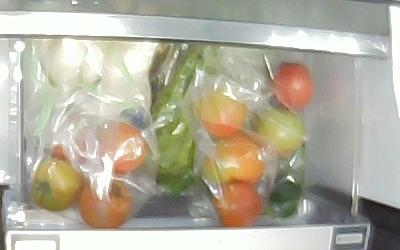tomato_vinyl: (202, 134, 265, 184), (31, 156, 82, 212), (250, 105, 302, 158), (193, 89, 248, 139), (78, 179, 132, 229), (102, 122, 147, 174), (211, 181, 261, 227), (267, 62, 313, 111)
